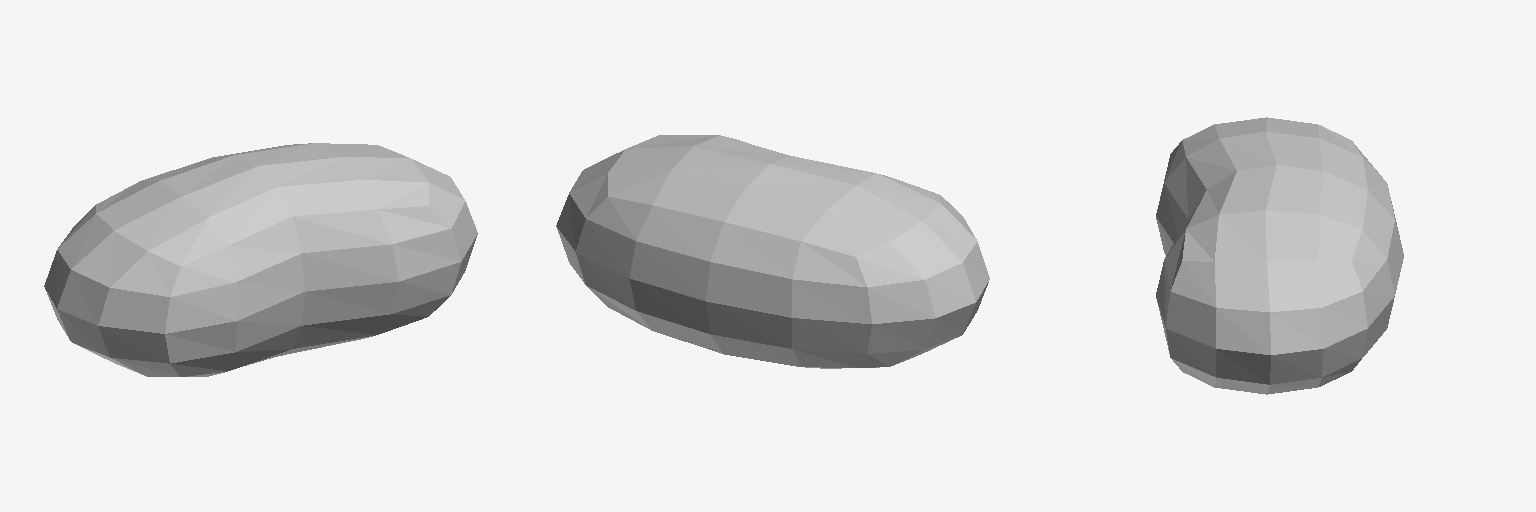
File: LV1_KidneyBeen.obj
The picture shows the model from 3 angles: view 1: azimuth 30°, elevation 25°; view 2: azimuth 150°, elevation 25°; view 3: azimuth 270°, elevation 25°; orthographic projection.
Parts seen in each view (by area): view 1: Level1; view 2: Level1; view 3: Level1.
Part boxes in pixels (x1,y1,x2,y2): Level1: (44, 143, 477, 376); Level1: (556, 135, 989, 368); Level1: (1156, 117, 1403, 394).
Size of the model in its own units: 2.47 by 1.05 by 1.3.